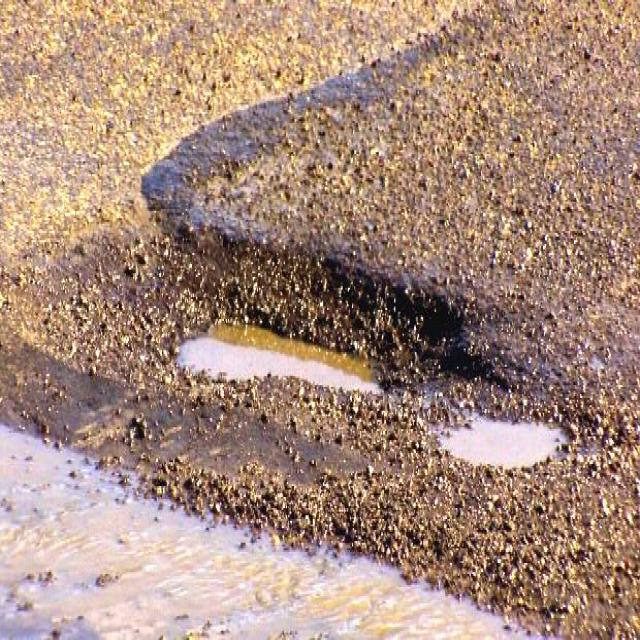pothole: (163, 312, 383, 412), (425, 396, 573, 481)
